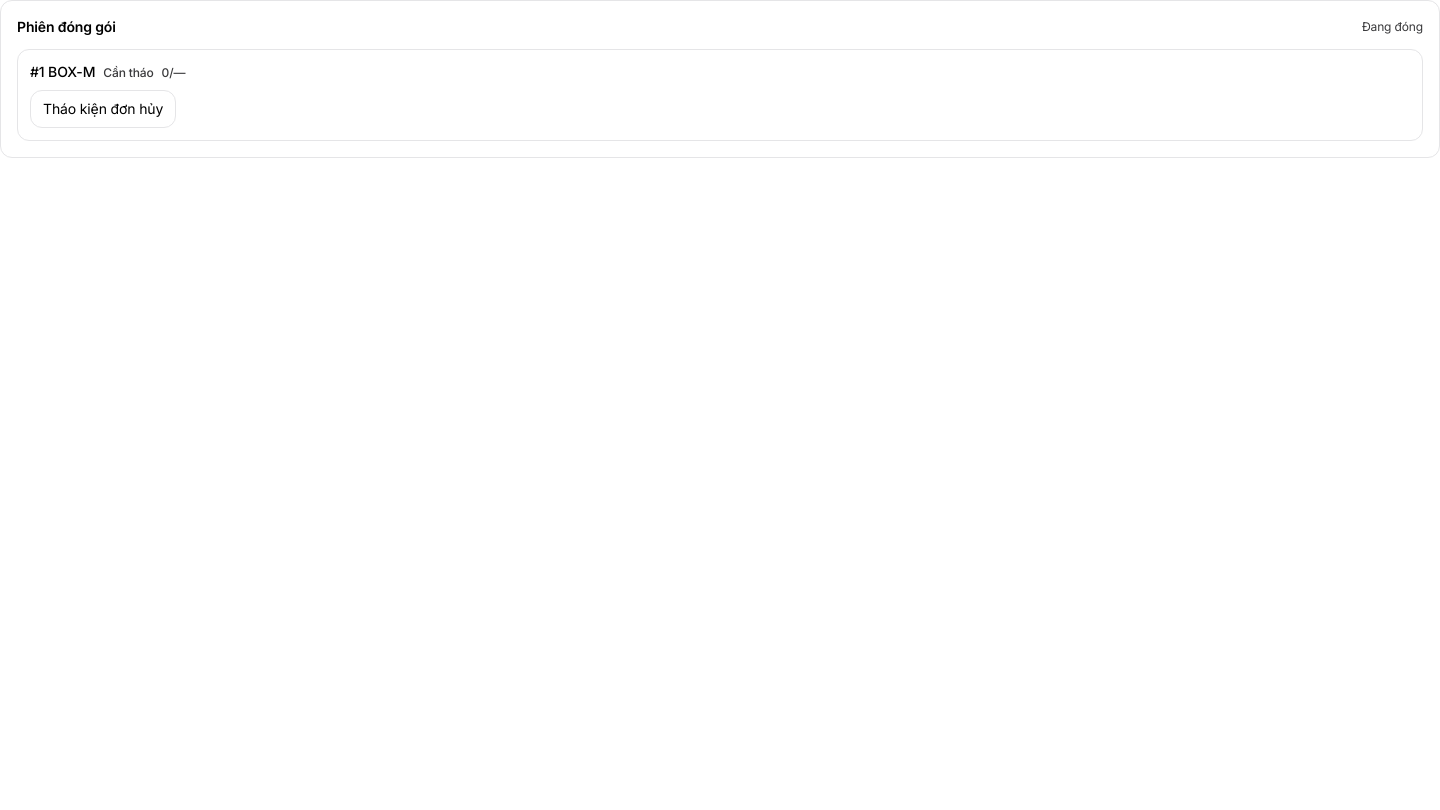
Test case: PackingSessionPanel — AOFP-332 › AC2: tháo kiện → chưa chọn tình trạng thùng thì không xác nhận được
Later steps or results of the test are not shown.
Click the button "Tháo kiện đơn hủy" at (103, 109), box [30, 90, 176, 128]
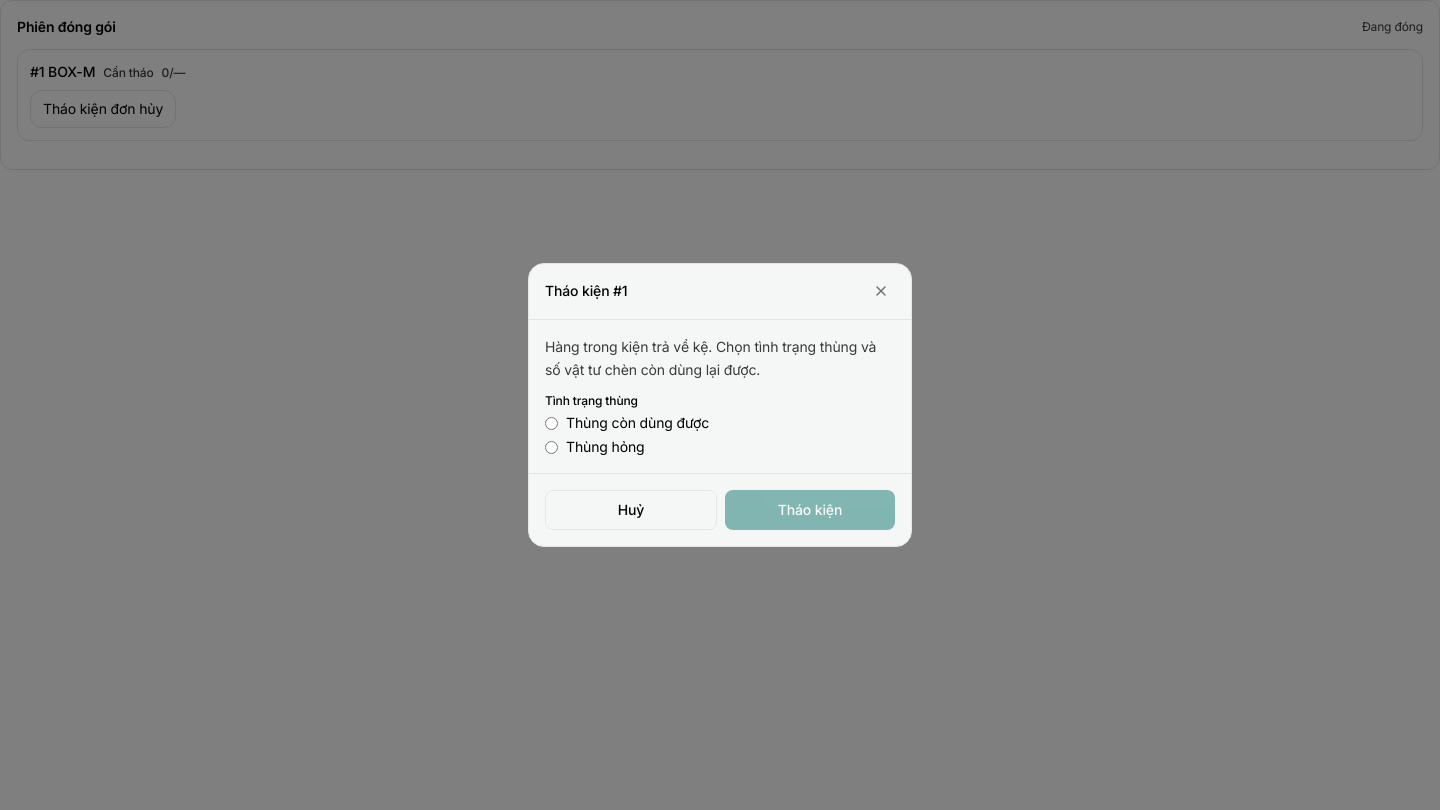
Now the button "Tháo kiện" is disabled, box [725, 490, 895, 530]
Click the radio button labelled "Thùng hỏng" at (552, 447), box [545, 441, 558, 454]
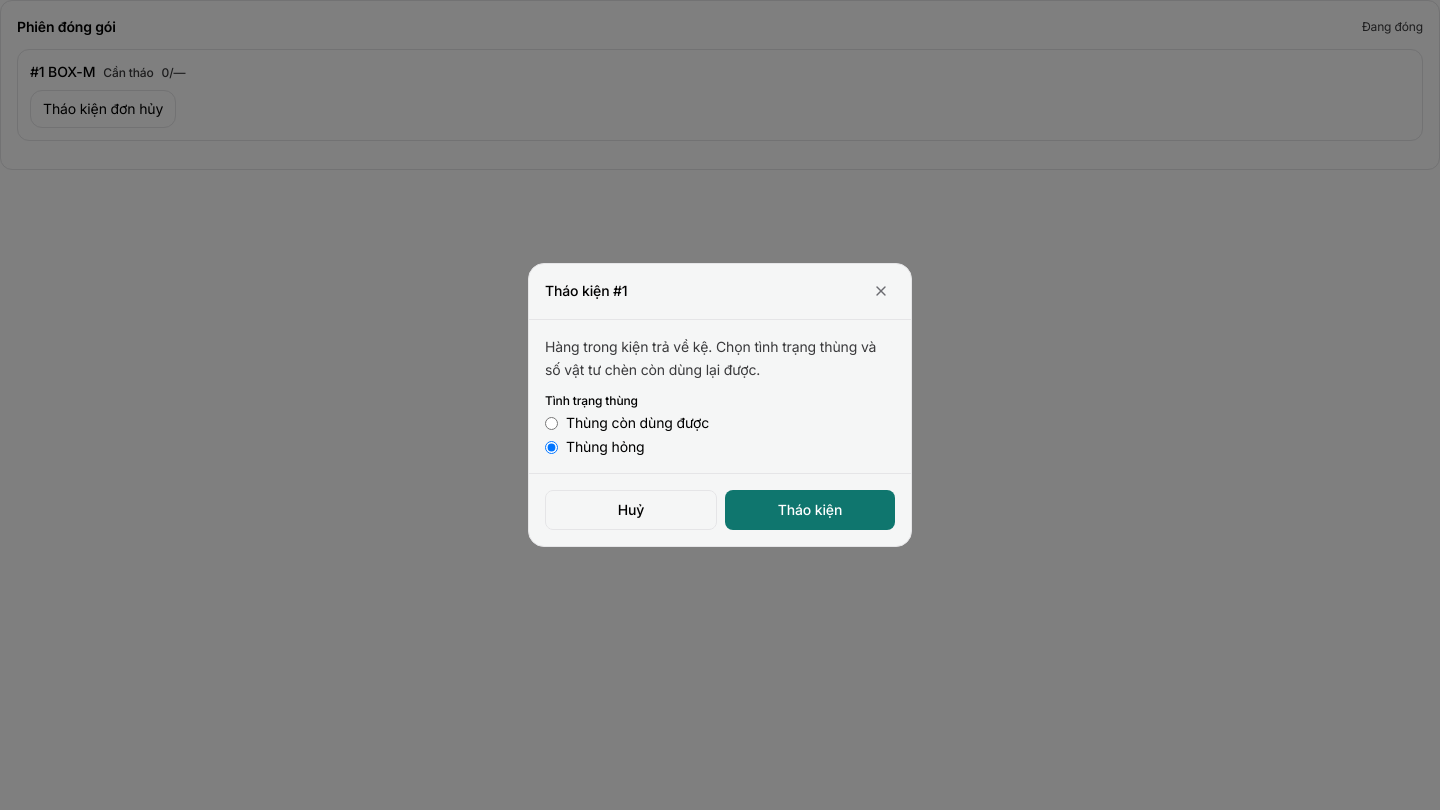
Now the button "Tháo kiện" is enabled, box [725, 490, 895, 530]
